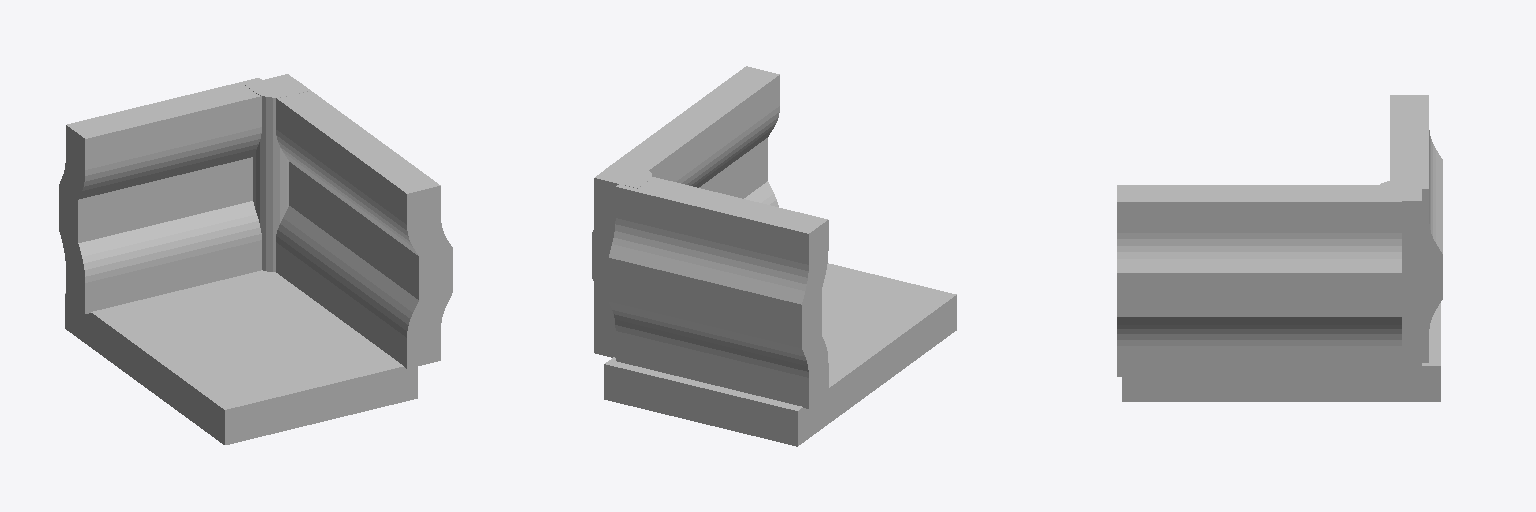
The model's file is modulo_derecha.obj.
3 views of the same model, side by side, from view 1: azimuth 30°, elevation 25°; view 2: azimuth 150°, elevation 25°; view 3: azimuth 270°, elevation 25° (orthographic).
Parts seen in each view (by area): view 1: modulo_izquierda pCube14, modulo_izquierda pCube19, modulo_izquierda pCube17, pCube18 modulo_izquierda; view 2: modulo_izquierda pCube14, modulo_izquierda pCube19, modulo_izquierda pCube17, pCube18 modulo_izquierda; view 3: modulo_izquierda pCube17, modulo_izquierda pCube19, modulo_izquierda pCube14, pCube18 modulo_izquierda.
Part boxes in pixels (x1,y1,x2,y2): modulo_izquierda pCube14: (59,78,261,313); modulo_izquierda pCube19: (65,270,417,444); modulo_izquierda pCube17: (276,81,452,368); pCube18 modulo_izquierda: (244,74,310,271); modulo_izquierda pCube14: (609,177,828,408); modulo_izquierda pCube19: (604,263,956,446); modulo_izquierda pCube17: (592,66,779,280); pCube18 modulo_izquierda: (594,161,651,357); modulo_izquierda pCube17: (1117,185,1401,376); modulo_izquierda pCube19: (1122,303,1440,401); modulo_izquierda pCube14: (1390,95,1442,362); pCube18 modulo_izquierda: (1376,180,1421,376).
Size of the model in its own units: 680 by 591 by 832.